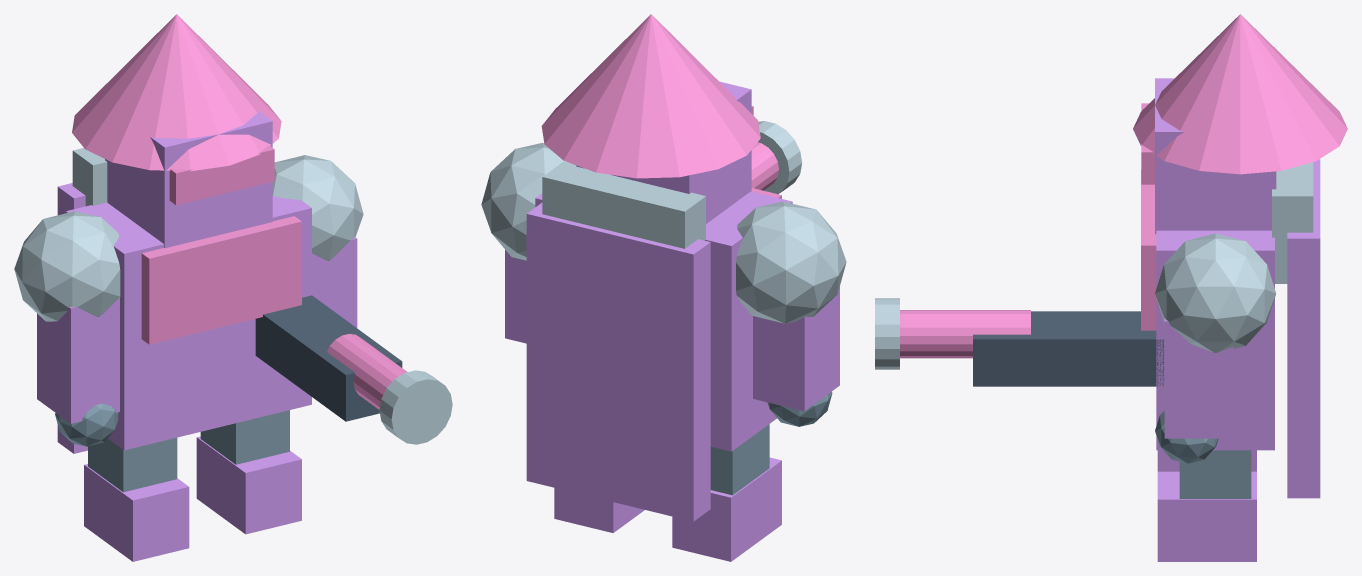
The model's file is vesper_ranger.glb.
The picture shows the model from 3 angles, left to right: view 1: azimuth 30°, elevation 25°; view 2: azimuth 150°, elevation 25°; view 3: azimuth 270°, elevation 25°; orthographic projection. The views are drawn at different scales.
Visible parts, largest first — view 1: torso_4, hood_spike_18, chestplate_5, helmet_6, shoulder_joint_8, weapon_body_15, arm_armor_9, boots_2, boots_0, shoulder_joint_11, weapon_muzzle_17, leg_armor_1 (+7 smaller); view 2: cloak_19, hood_spike_18, shoulder_joint_8, torso_4, power_backpack_14, arm_armor_9, boots_0, shoulder_joint_11, helmet_6, leg_armor_1, boots_2, arm_armor_12 (+3 smaller); view 3: hood_spike_18, weapon_body_15, shoulder_joint_11, cloak_19, torso_4, helmet_6, boots_2, arm_armor_12, energy_barrel_16, power_backpack_14, leg_armor_3, chestplate_5 (+2 smaller).
Part boxes in pixels (x1,y1,x2,y2): torso_4: (66, 196, 311, 450); hood_spike_18: (72, 14, 281, 171); chestplate_5: (141, 216, 301, 344); helmet_6: (105, 110, 272, 248); shoulder_joint_8: (14, 211, 120, 321); weapon_body_15: (255, 295, 402, 421); arm_armor_9: (37, 297, 119, 423); boots_2: (196, 436, 301, 534); boots_0: (84, 464, 189, 561); shoulder_joint_11: (272, 155, 363, 260); weapon_muzzle_17: (379, 370, 452, 444); leg_armor_1: (88, 437, 177, 492); cloak_19: (526, 202, 710, 521); hood_spike_18: (541, 14, 760, 178); shoulder_joint_8: (736, 201, 846, 323); torso_4: (535, 191, 792, 451); power_backpack_14: (542, 161, 705, 248); arm_armor_9: (753, 286, 839, 411); boots_0: (672, 457, 781, 561); shoulder_joint_11: (481, 142, 567, 260); helmet_6: (576, 81, 751, 223); leg_armor_1: (710, 424, 769, 495); boots_2: (554, 488, 644, 532); arm_armor_12: (505, 250, 526, 343); hood_spike_18: (1133, 14, 1347, 174); weapon_body_15: (973, 311, 1164, 386); shoulder_joint_11: (1155, 233, 1275, 352); cloak_19: (1287, 159, 1320, 498); torso_4: (1156, 230, 1274, 450); helmet_6: (1155, 78, 1276, 234); boots_2: (1157, 471, 1256, 561); arm_armor_12: (1164, 318, 1233, 438); energy_barrel_16: (900, 310, 1030, 358); power_backpack_14: (1272, 162, 1313, 283); leg_armor_3: (1179, 450, 1251, 498); chestplate_5: (1141, 170, 1156, 330).
Bounding box in the file's own units: 1.42 × 2.02 × 1.72.
